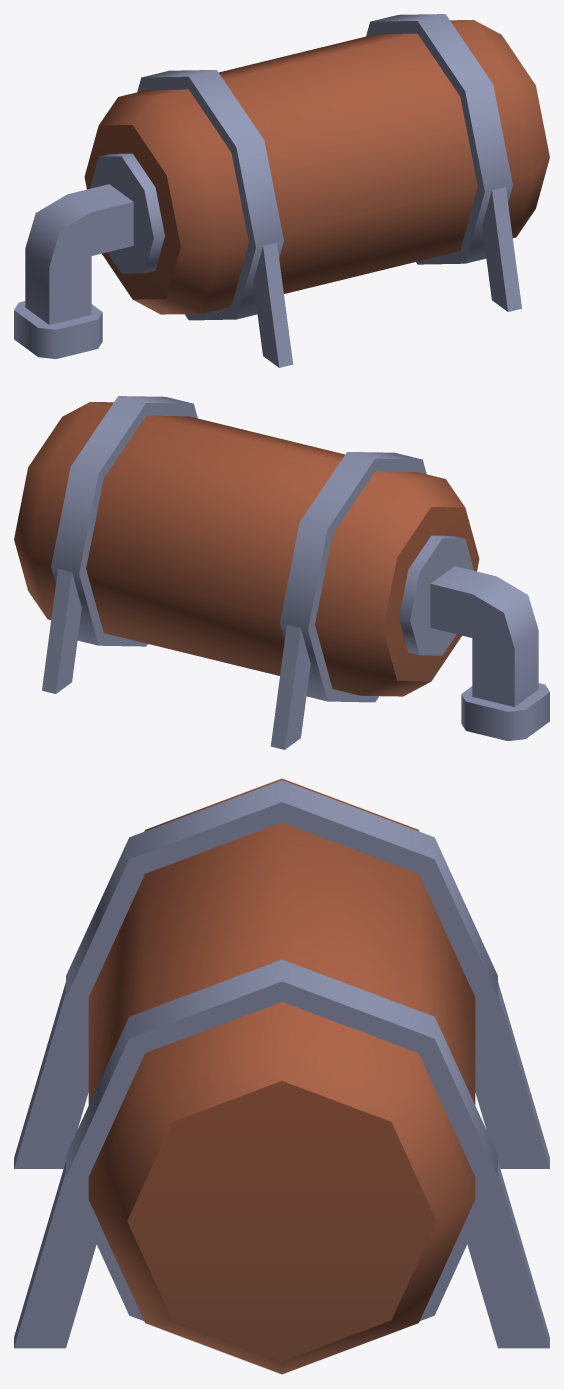
The model's file is storage-tank.glb.
3 renders of one model, top to bottom at view 1: azimuth 30°, elevation 25°; view 2: azimuth 150°, elevation 25°; view 3: azimuth 270°, elevation 25°, orthographic. The views are drawn at different scales.
Parts seen in each view (by area): view 1: detail-tank; view 2: detail-tank; view 3: detail-tank.
Part boxes in pixels (<box>): detail-tank: <box>14,14,549,367</box>; detail-tank: <box>14,396,549,749</box>; detail-tank: <box>14,778,549,1374</box>.
Bounding box in the file's own units: 0.848 × 0.4152 × 0.5153.
1 material, 1 textured.
